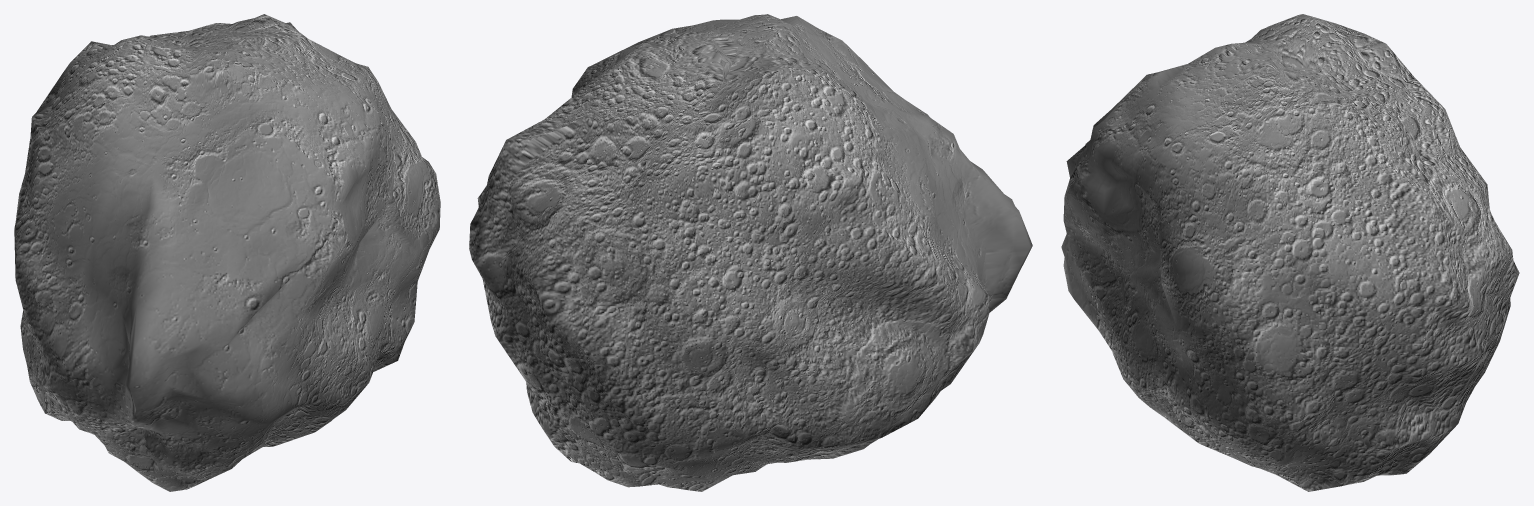
The model's file is AsteroidMain.FBX.
3 views of the same model, side by side, from view 1: azimuth 30°, elevation 25°; view 2: azimuth 150°, elevation 25°; view 3: azimuth 270°, elevation 25° (orthographic). The views are drawn at different scales.
Visible parts, largest first — view 1: GeoSphere01; view 2: GeoSphere01; view 3: GeoSphere01.
Part boxes in pixels (box(x1,y1,x2,y2)): GeoSphere01: box(14, 14, 440, 491); GeoSphere01: box(469, 14, 1032, 491); GeoSphere01: box(1061, 14, 1519, 491).
Bounding box in the file's own units: 79.61 × 78.55 × 80.06.
1 material, 1 textured.
